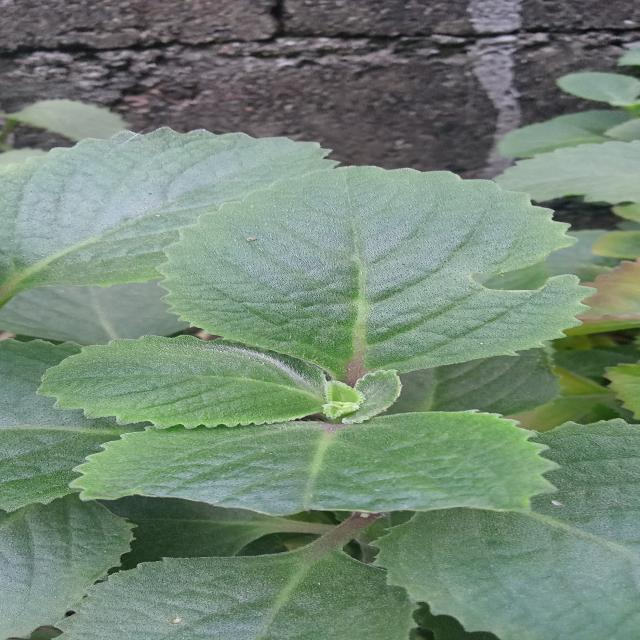Oregano: (49, 175, 640, 536)
